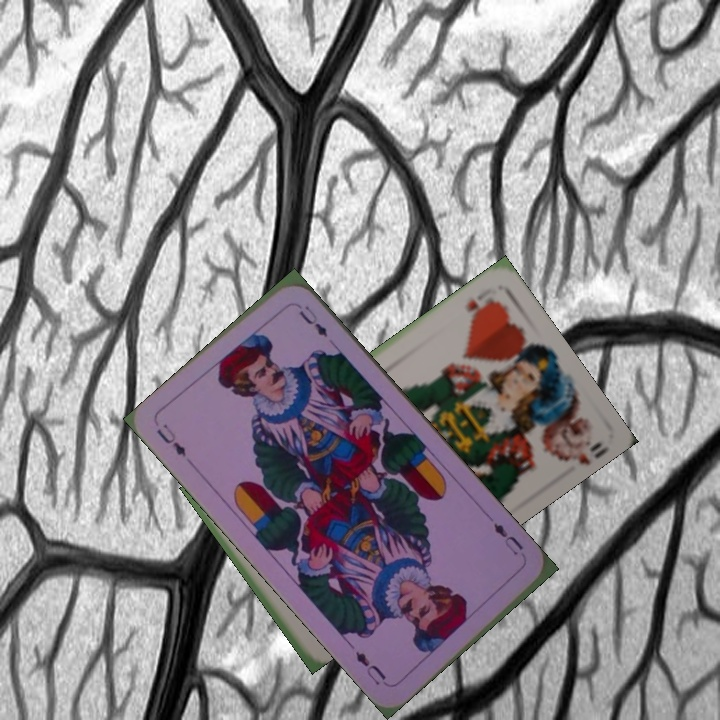EU: (489, 518, 526, 558), (152, 419, 189, 459)
HO: (461, 293, 501, 315)
